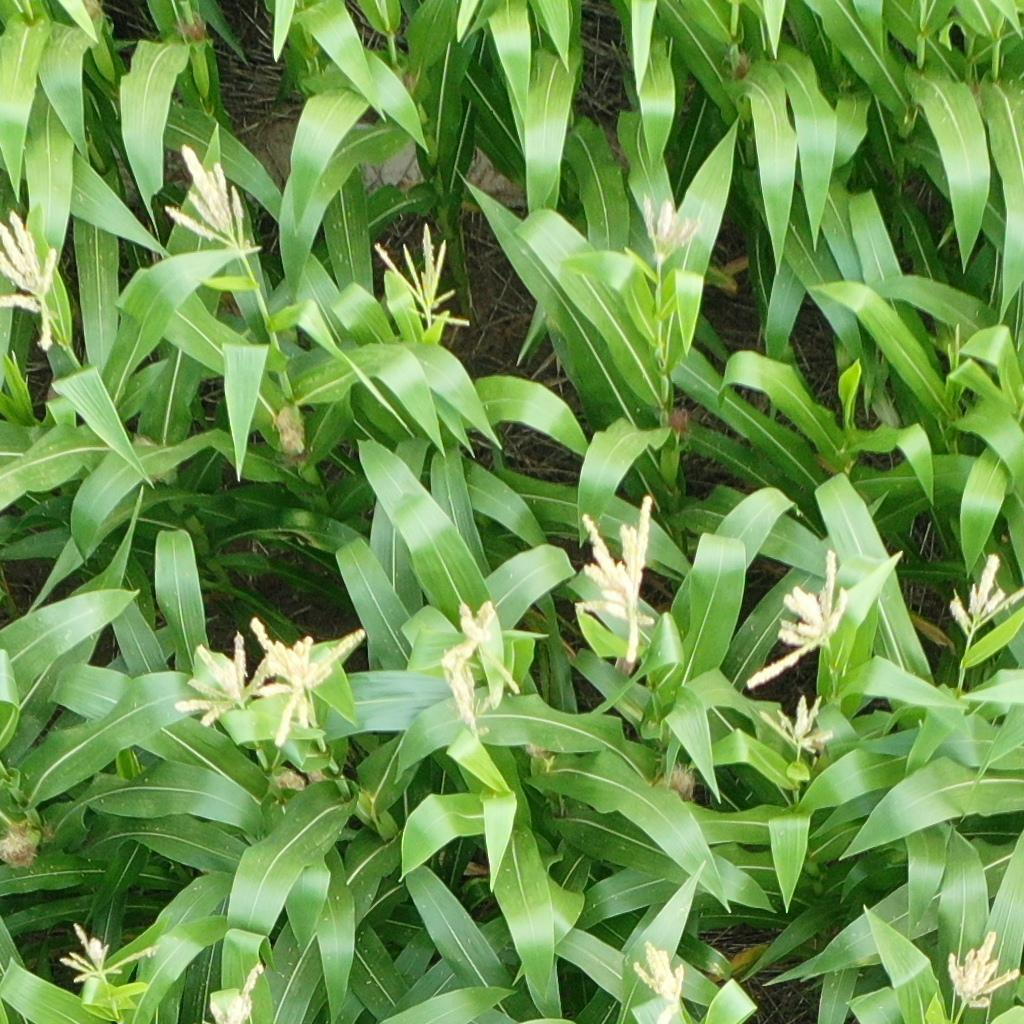Tassel: (566, 493, 667, 674), (249, 610, 365, 751), (744, 550, 850, 688), (369, 228, 475, 328), (157, 143, 250, 254), (1, 210, 63, 355), (443, 598, 528, 695), (177, 631, 248, 734), (941, 927, 1020, 1010), (944, 552, 1024, 632), (55, 925, 158, 985), (435, 651, 488, 743), (630, 943, 694, 1005), (641, 196, 701, 260), (758, 697, 829, 751), (206, 962, 267, 1024)
